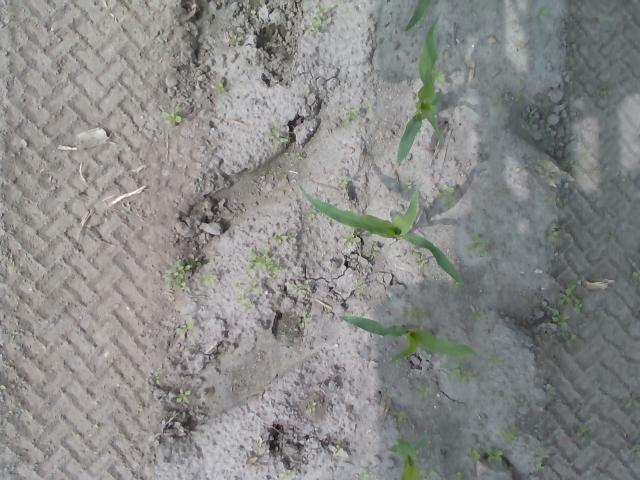Maize: (296, 182, 464, 286), (338, 314, 480, 364), (396, 12, 442, 165), (388, 432, 423, 480), (401, 0, 429, 31)
Weeds: (545, 283, 584, 331), (163, 253, 200, 292), (244, 244, 282, 273), (238, 274, 258, 312), (442, 363, 478, 382), (432, 186, 455, 210), (464, 236, 488, 255), (158, 110, 183, 126), (402, 306, 426, 320), (532, 447, 546, 470), (268, 128, 288, 144), (467, 440, 482, 461), (432, 64, 446, 86), (422, 463, 440, 480), (173, 322, 192, 336), (415, 384, 431, 400), (546, 227, 560, 244), (487, 446, 502, 461), (176, 388, 190, 404), (344, 106, 360, 119), (341, 234, 359, 245), (306, 208, 320, 222), (306, 18, 320, 32), (230, 32, 243, 47), (468, 309, 482, 322), (558, 157, 572, 170), (486, 354, 501, 366), (392, 410, 408, 421), (274, 232, 288, 244), (336, 175, 348, 188), (503, 430, 516, 442), (318, 4, 328, 19), (202, 273, 215, 284), (307, 400, 317, 414), (213, 82, 224, 93), (417, 255, 428, 266), (368, 243, 378, 255), (536, 8, 550, 16), (566, 332, 576, 342), (402, 180, 412, 190), (334, 445, 343, 455), (292, 151, 301, 161), (495, 99, 505, 108), (150, 376, 160, 384), (454, 471, 464, 479), (360, 471, 368, 480)
